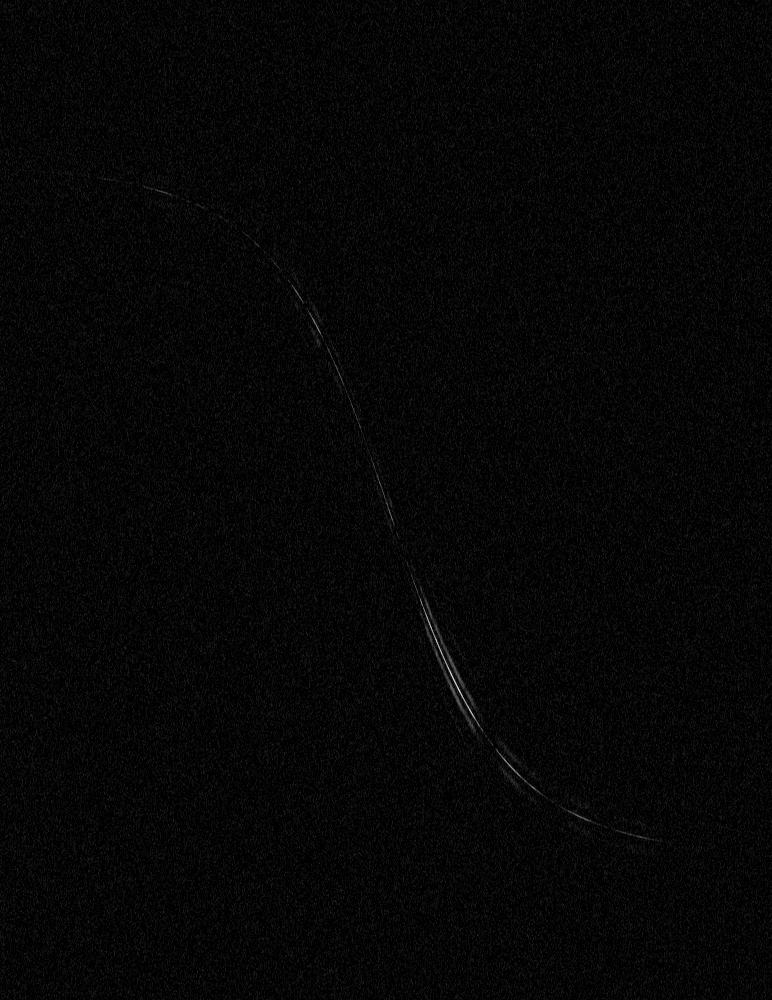signal: (0, 0, 771, 999)
